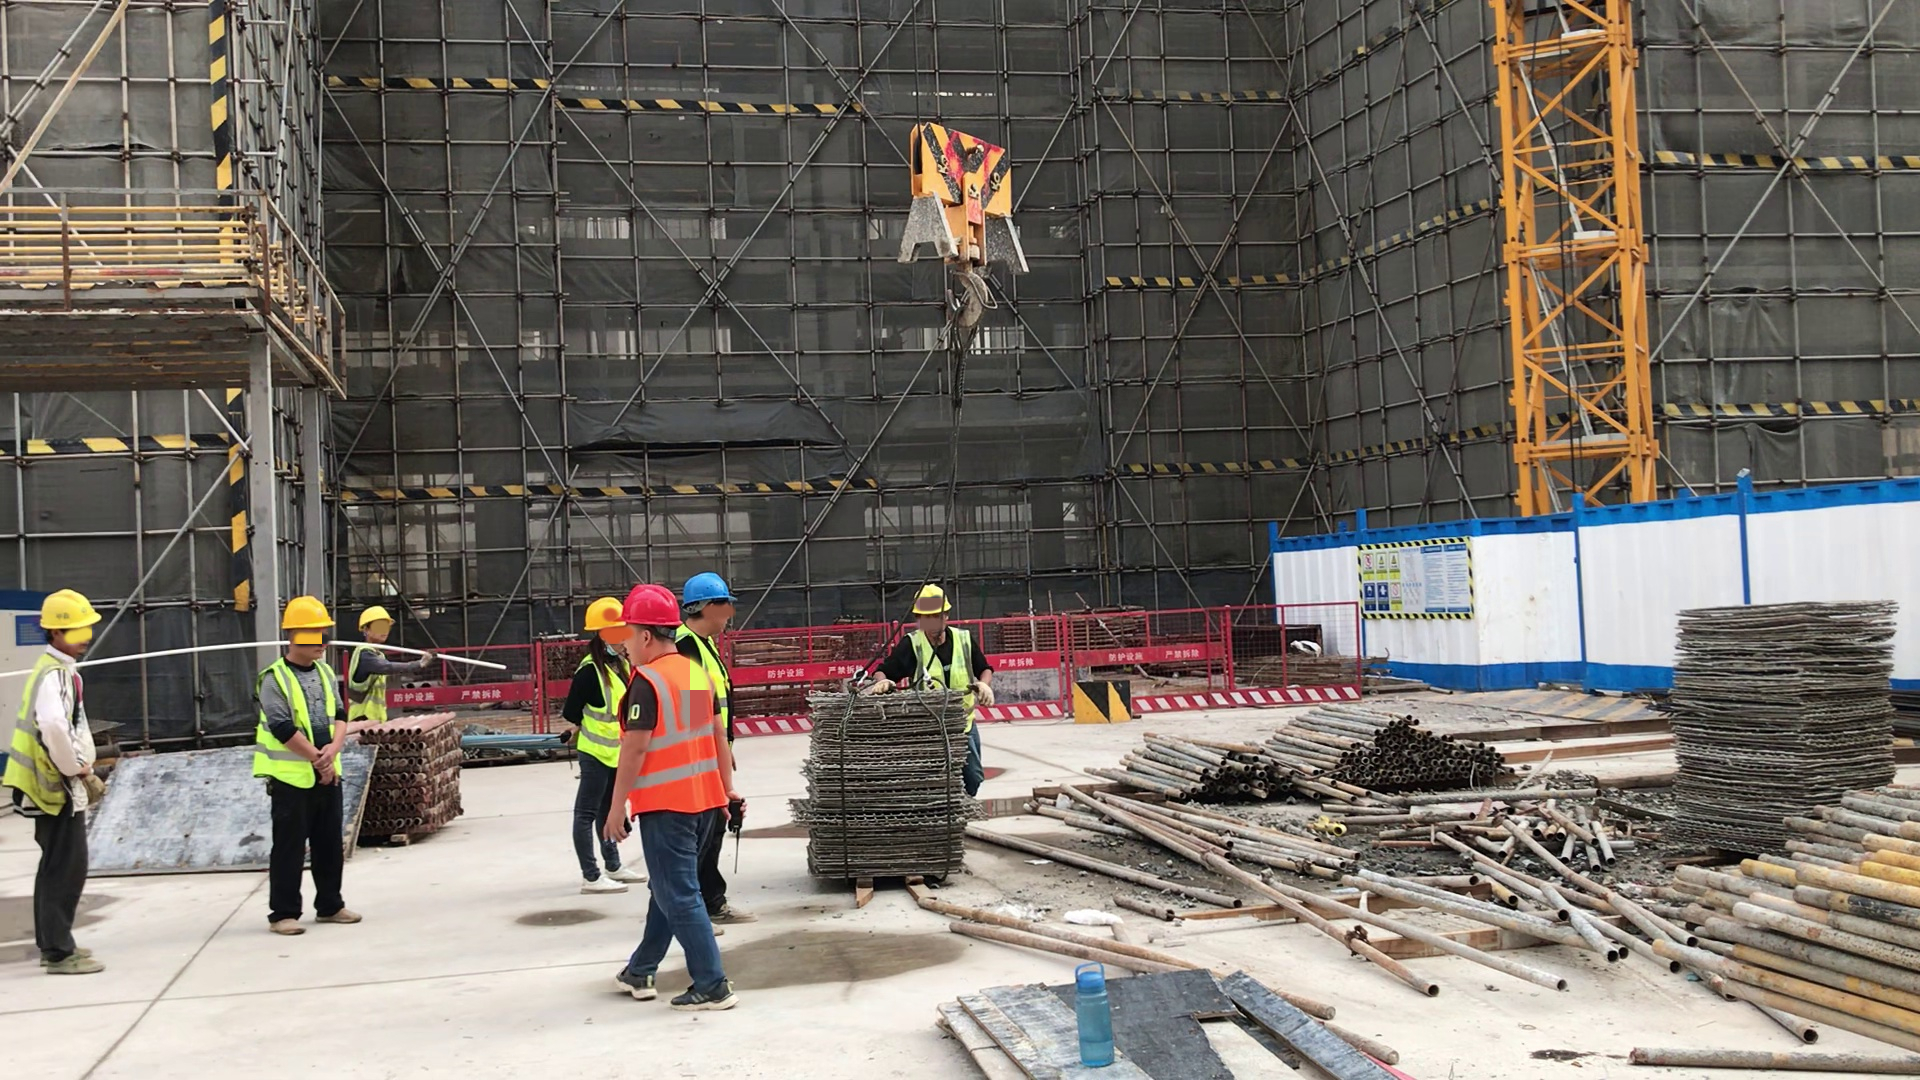fence: (1136, 593, 1365, 698), (1002, 608, 1070, 724), (750, 620, 804, 739), (463, 671, 558, 730)
helmet: (37, 592, 101, 632), (620, 585, 682, 627), (279, 597, 338, 632), (684, 573, 735, 606), (577, 598, 622, 630), (913, 586, 952, 617), (358, 605, 394, 631)
hook: (888, 119, 1033, 332)
person: (605, 583, 747, 983), (1, 587, 113, 971), (249, 592, 367, 939), (559, 593, 631, 895), (864, 583, 1001, 707), (349, 606, 438, 721), (684, 573, 737, 666)
scaffold: (1669, 775, 1920, 1043), (1262, 700, 1506, 797), (1089, 734, 1303, 811), (388, 712, 460, 841)
slogan: (1367, 537, 1470, 616)
vest: (619, 659, 733, 814), (252, 658, 349, 792), (2, 657, 80, 818), (576, 655, 621, 770), (904, 630, 975, 691), (345, 647, 388, 722)
